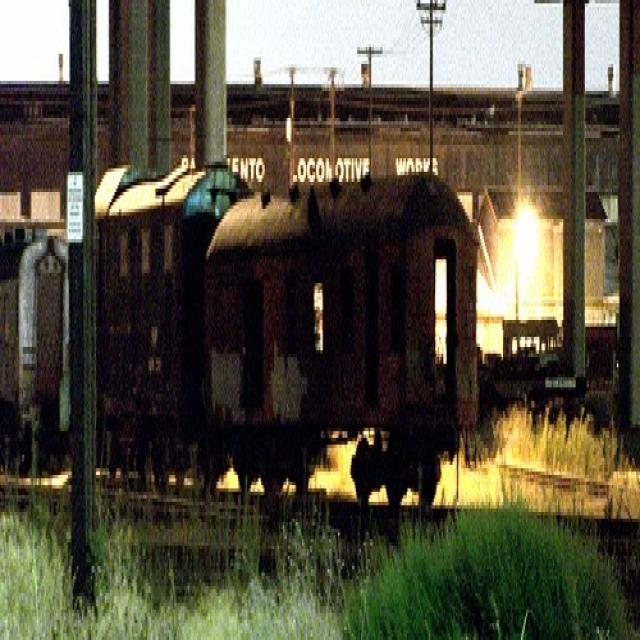train: (2, 151, 478, 502)
